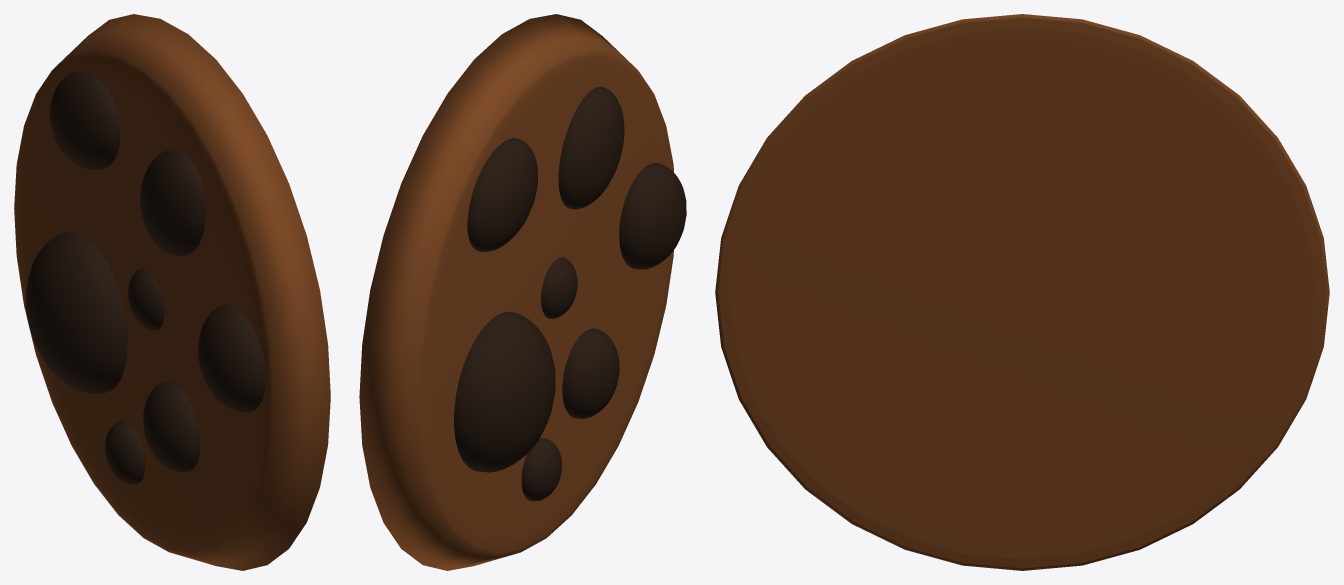
File: Cookie (1).fbx
3 views of the same model, side by side, from view 1: azimuth 30°, elevation 25°; view 2: azimuth 150°, elevation 25°; view 3: azimuth 270°, elevation 25° (orthographic). The views are drawn at different scales.
Parts seen in each view (by area): view 1: Cylinder, Sphere.003, Sphere.001, Sphere.004, Sphere, Sphere.002, Sphere.005, Sphere.006; view 2: Cylinder, Sphere.003, Sphere.004, Sphere, Sphere.001, Sphere.002, Sphere.005, Sphere.006; view 3: Cylinder.
Boxes of the visible parts, <box> form: Cylinder: <box>14,14,330,570</box>; Sphere.003: <box>26,231,127,393</box>; Sphere.001: <box>198,304,265,412</box>; Sphere.004: <box>140,149,205,255</box>; Sphere: <box>50,70,120,170</box>; Sphere.002: <box>143,381,200,472</box>; Sphere.005: <box>105,420,145,484</box>; Sphere.006: <box>128,268,164,330</box>; Cylinder: <box>359,14,673,570</box>; Sphere.003: <box>454,311,555,472</box>; Sphere.004: <box>558,86,624,209</box>; Sphere: <box>467,138,537,251</box>; Sphere.001: <box>619,163,686,269</box>; Sphere.002: <box>562,328,619,418</box>; Sphere.005: <box>521,438,561,501</box>; Sphere.006: <box>541,257,577,318</box>; Cylinder: <box>715,14,1329,570</box>.
Bounding box in the file's own units: 115 × 597 × 597.
Materials: 1 (1 with a texture image).
